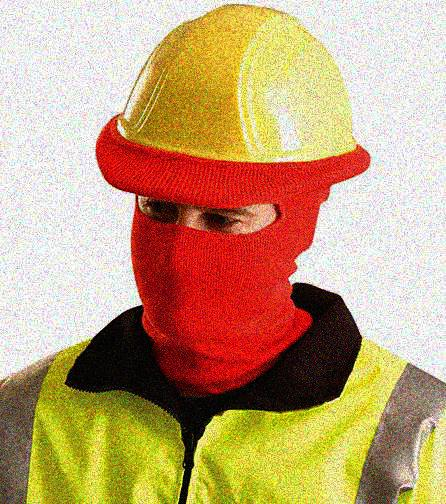helmet: (96, 4, 373, 354)
